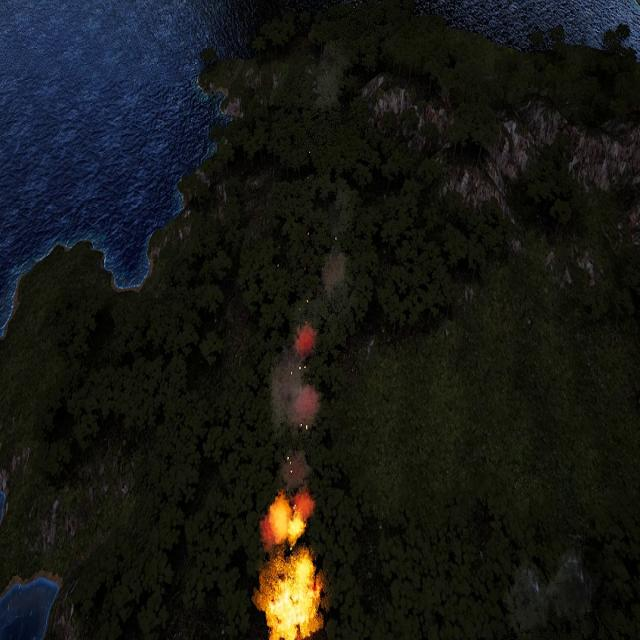fire: (264, 497, 319, 640)
smoke: (268, 208, 345, 504)
